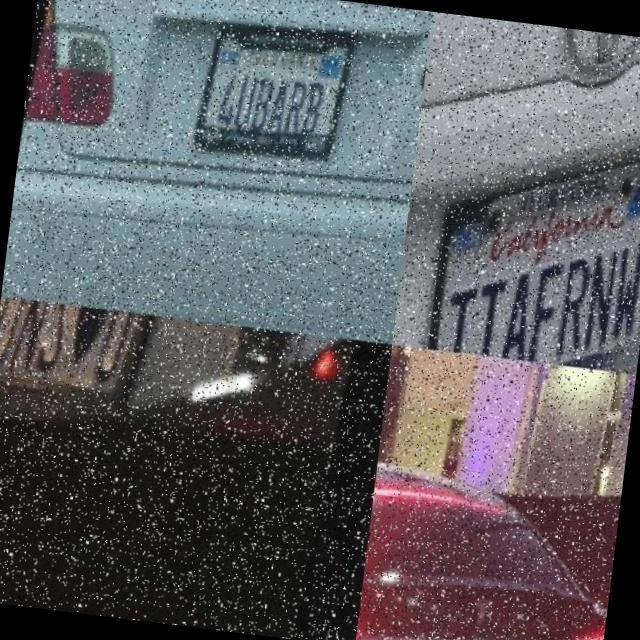License Plate: (436, 164, 640, 373), (0, 297, 156, 451), (198, 22, 356, 168)
